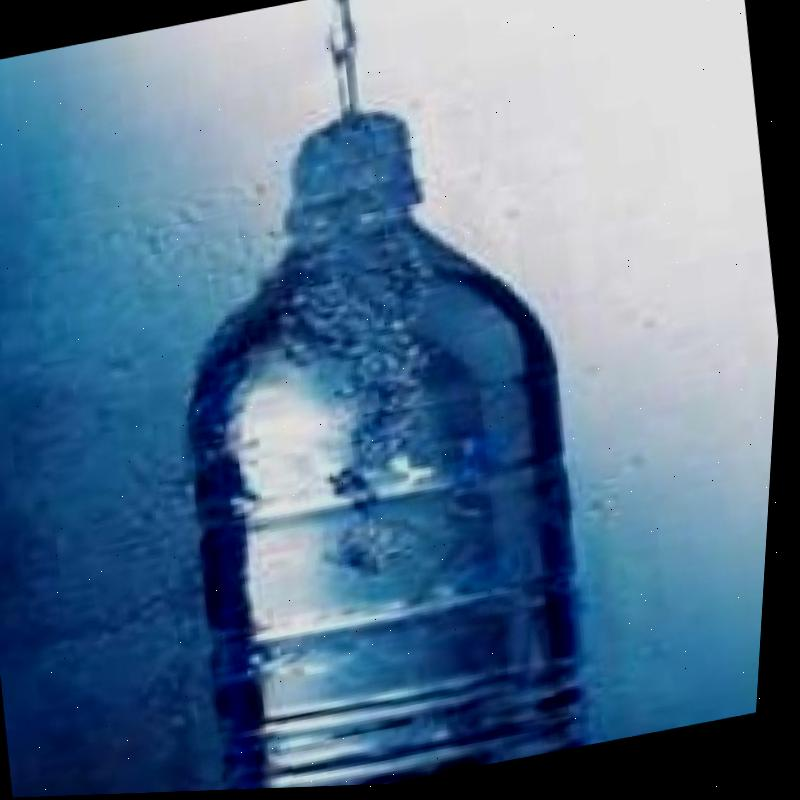botella: (118, 81, 639, 795)
